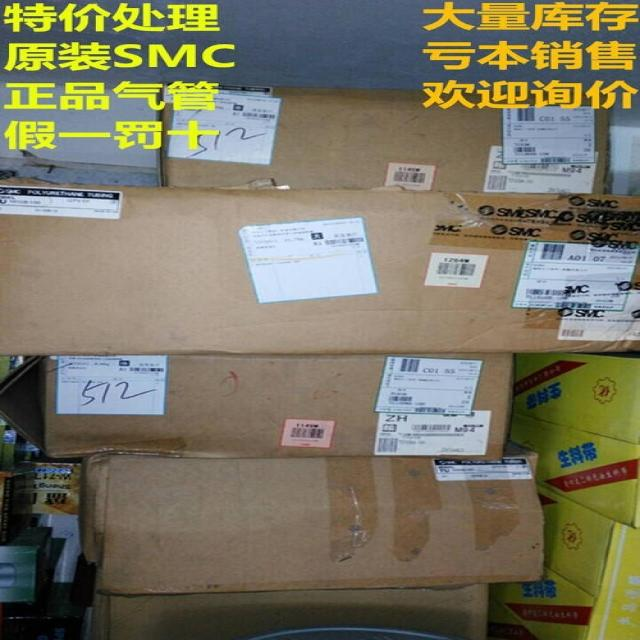box: (0, 178, 639, 353), (83, 454, 546, 594), (36, 351, 514, 459), (155, 85, 613, 194), (92, 585, 485, 638)
